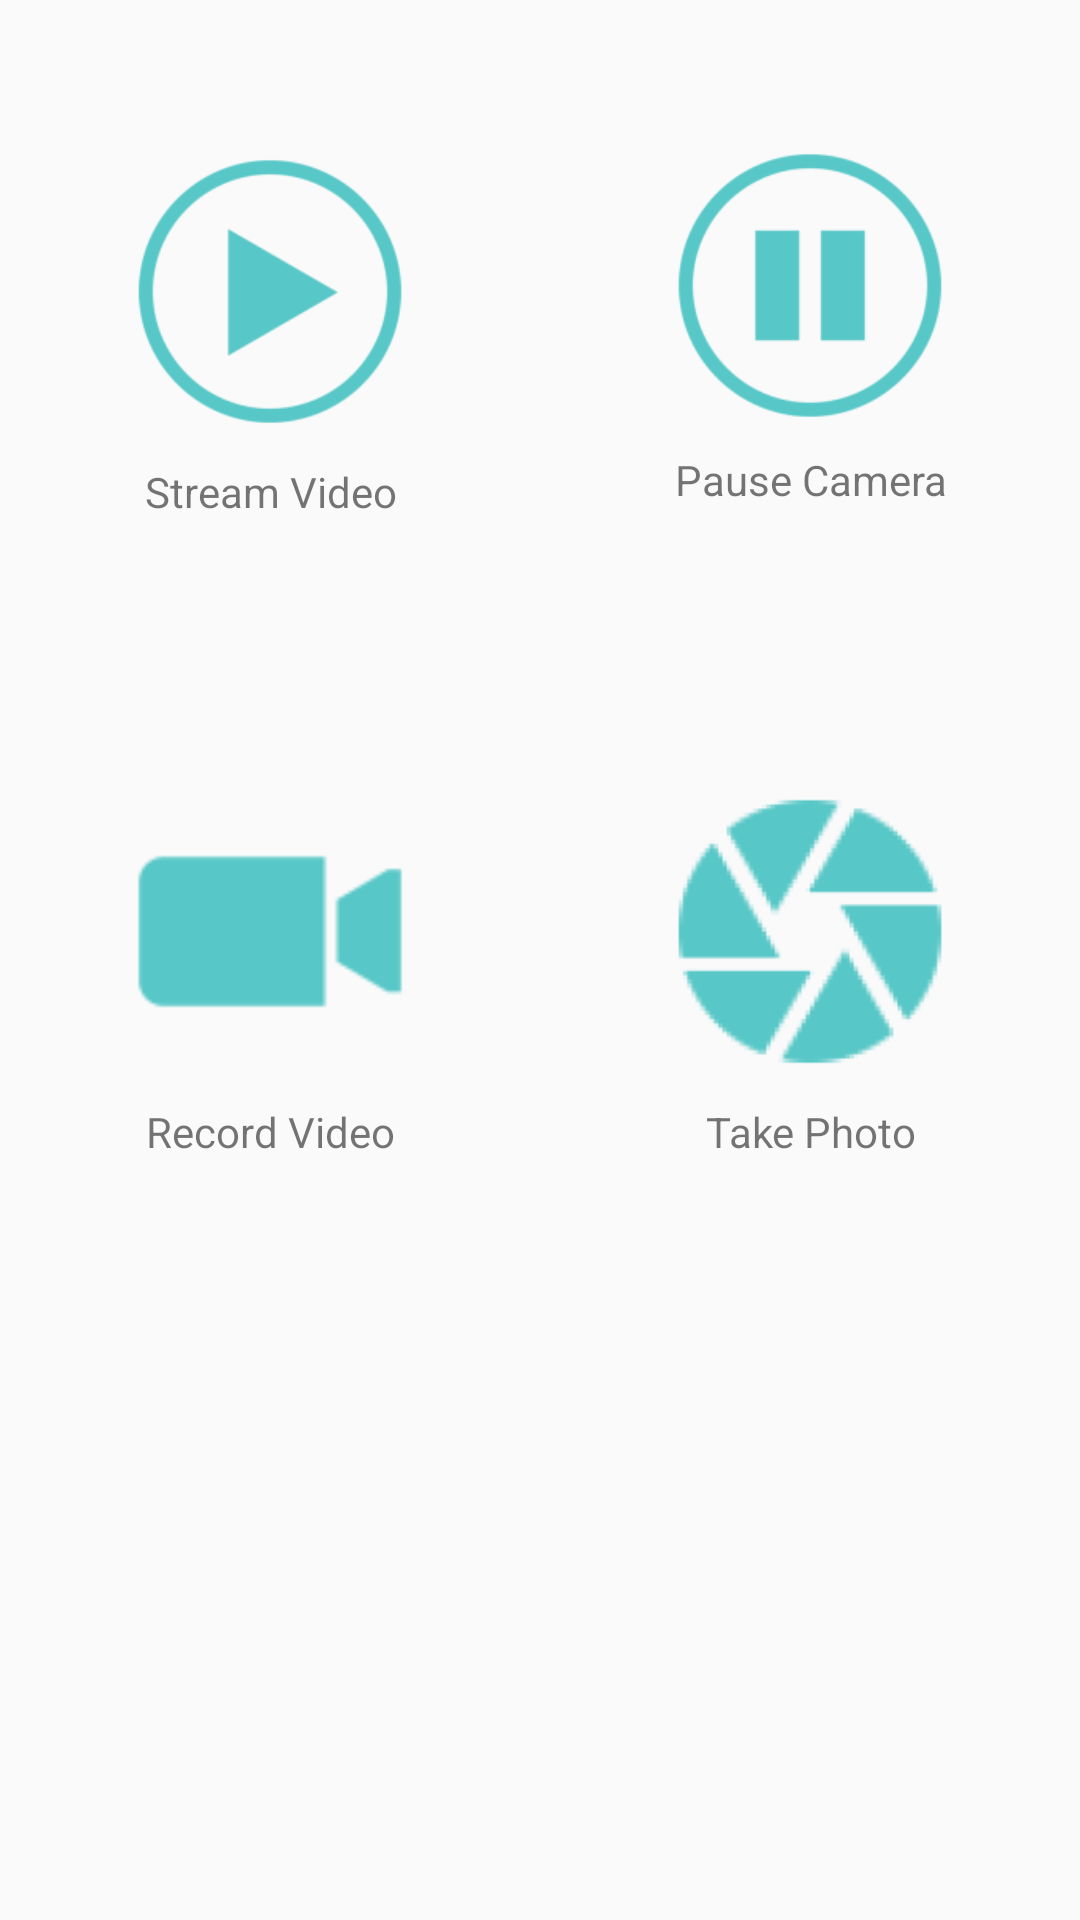

Where icons sit on this 1080px x 1920px app screen, as region(x1, y1, x2, y2):
play: region(138, 160, 402, 423)
